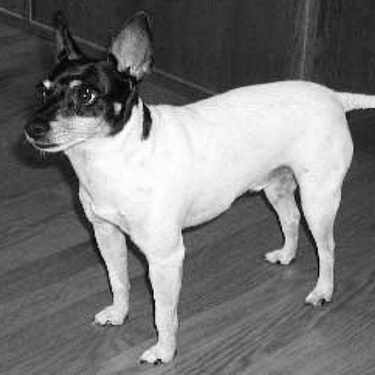dog: (22, 2, 374, 373)
